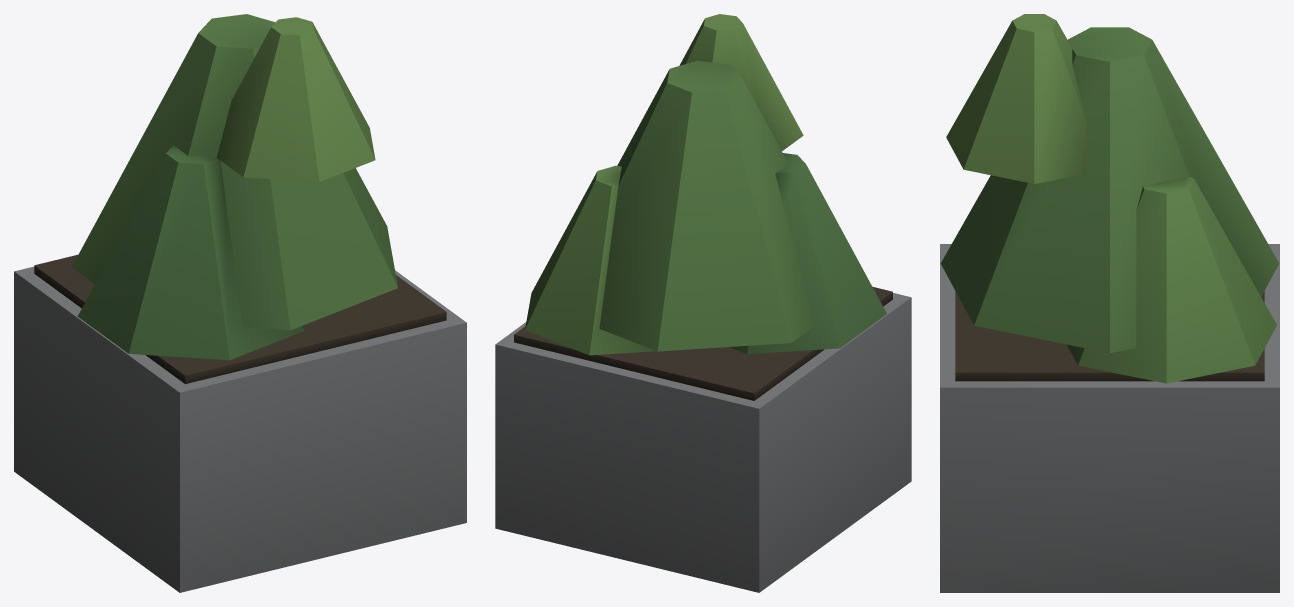
File: kuebel.glb
The picture shows the model from 3 angles, left to right: view 1: azimuth 30°, elevation 25°; view 2: azimuth 150°, elevation 25°; view 3: azimuth 270°, elevation 25°; orthographic projection. The views are drawn at different scales.
Visible parts, largest first — view 1: lack; view 2: lack; view 3: lack.
Boxes of the visible parts, x1=… form: lack: x1=14, y1=14, x2=466, y2=592; lack: x1=495, y1=14, x2=911, y2=592; lack: x1=940, y1=14, x2=1279, y2=592.
Bounding box in the file's own units: 0.9884 × 1.48 × 0.9.
